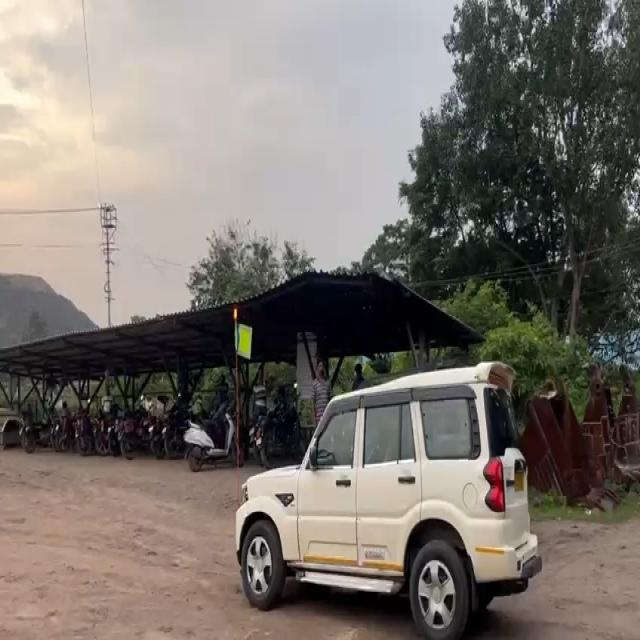light_vehicle: (233, 364, 542, 636)
